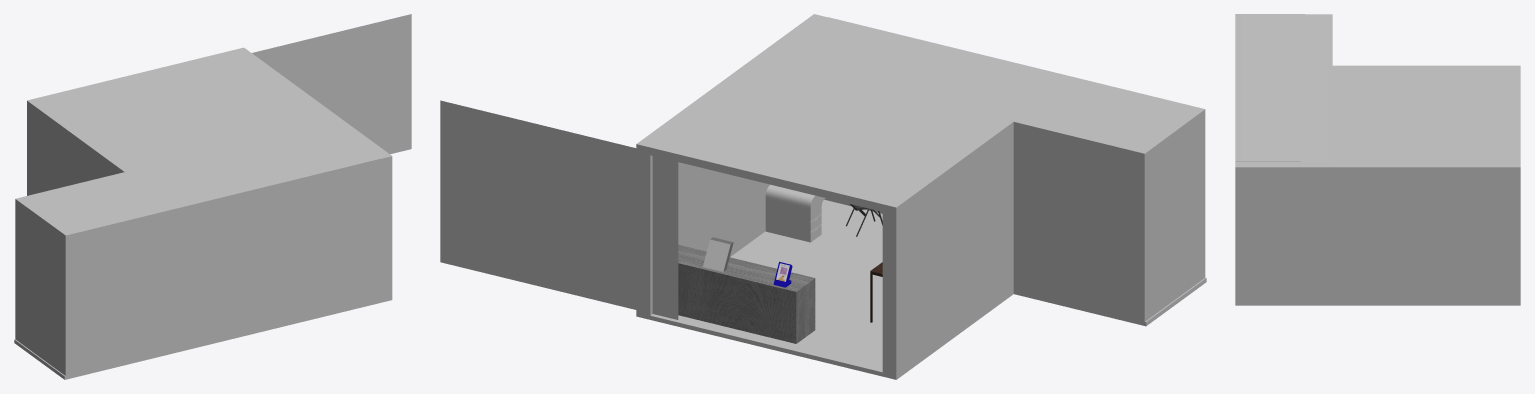
File: mapgamebetter.fbx
3 renders of one model, left to right at view 1: azimuth 30°, elevation 25°; view 2: azimuth 150°, elevation 25°; view 3: azimuth 270°, elevation 25°, orthographic. The views are drawn at different scales.
Visible parts, largest first — view 1: Cube.001, Plane.002; view 2: Cube.001, Plane.002, Cube, Cube.004, Plane; view 3: Cube.001.
Boxes of the visible parts, bbox=[...] form: Cube.001: bbox=[14, 47, 392, 379]; Plane.002: bbox=[252, 14, 411, 154]; Cube.001: bbox=[636, 14, 1206, 379]; Plane.002: bbox=[440, 100, 678, 319]; Cube: bbox=[678, 244, 815, 343]; Cube.004: bbox=[765, 184, 882, 242]; Plane: bbox=[703, 237, 733, 271]; Cube.001: bbox=[1235, 14, 1520, 305].
Bounding box in the file's own units: 2297 × 641 × 1197.
